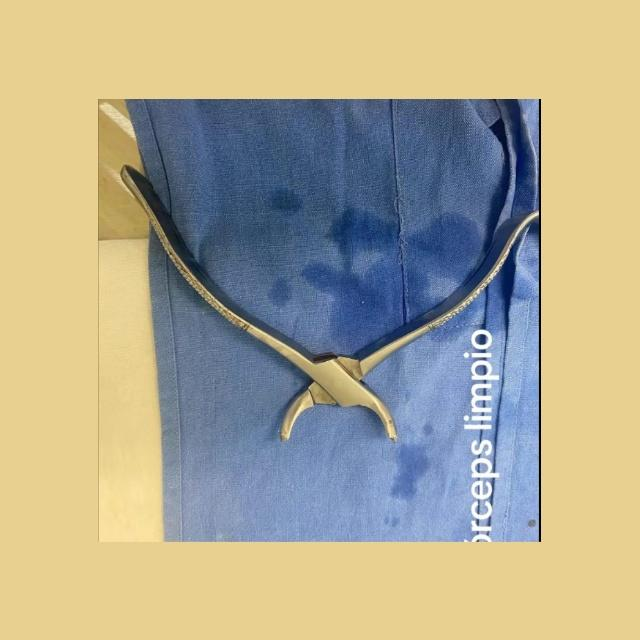forceps: (122, 167, 536, 443)
